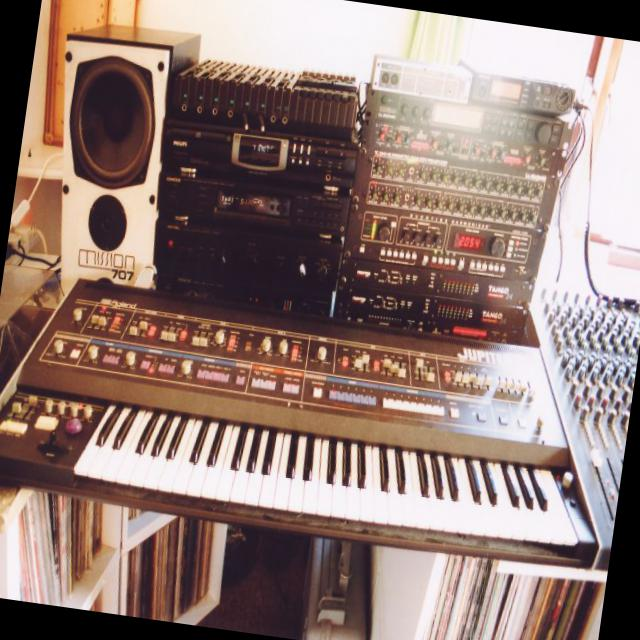floor -X: (0, 177, 64, 408), (196, 520, 314, 637)
graphic equalizer: (331, 52, 575, 342)
hi-fi: (153, 55, 366, 311)
loudspeaker: (60, 19, 201, 295)
shelves crop: (0, 482, 226, 622), (367, 543, 606, 640)
suitcase: (299, 534, 368, 640)
synthesizer: (0, 275, 640, 568)
wall clock: (17, 0, 640, 299)
